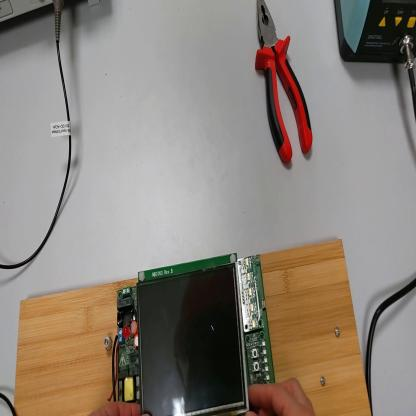hand: (250, 372, 315, 414), (89, 399, 140, 414)
low voltage board: (108, 253, 275, 416)
oscilloscope: (2, 1, 101, 25)
pliers: (256, 1, 313, 163)
welder station: (335, 2, 416, 66)
working area: (15, 240, 374, 414)
